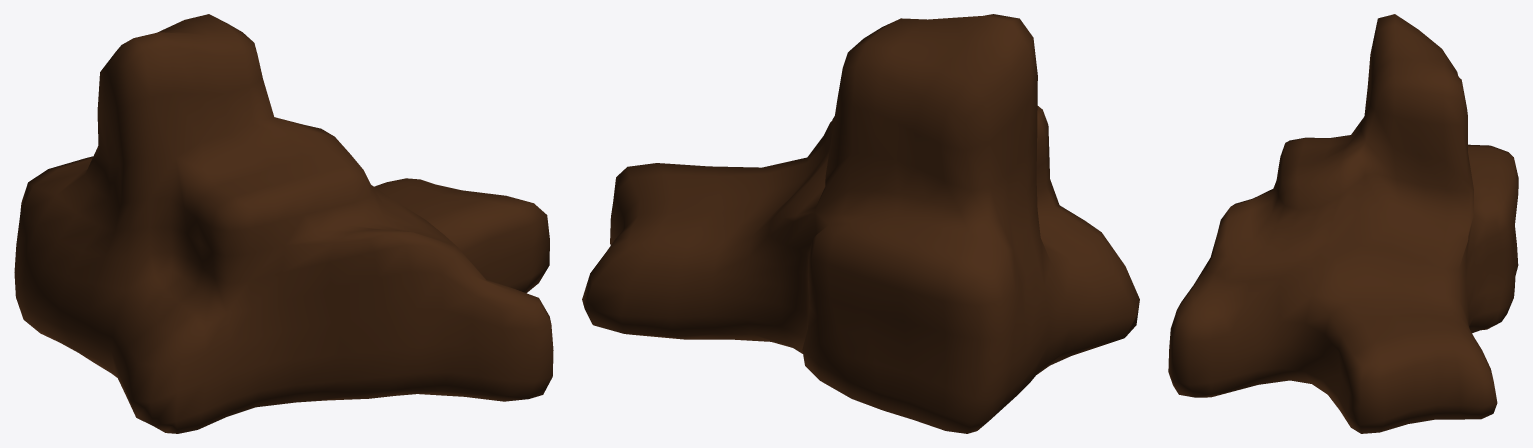
Rendered from rock_4.fbx.
3 views of the same model, side by side, from view 1: azimuth 30°, elevation 25°; view 2: azimuth 150°, elevation 25°; view 3: azimuth 270°, elevation 25° (orthographic). The views are drawn at different scales.
Parts seen in each view (by area): view 1: Cube; view 2: Cube; view 3: Cube.
Boxes of the visible parts, bbox=[...] form: Cube: bbox=[14, 14, 553, 433]; Cube: bbox=[582, 14, 1139, 433]; Cube: bbox=[1168, 14, 1518, 433].
Bounding box in the file's own units: 169 × 120 × 136.
